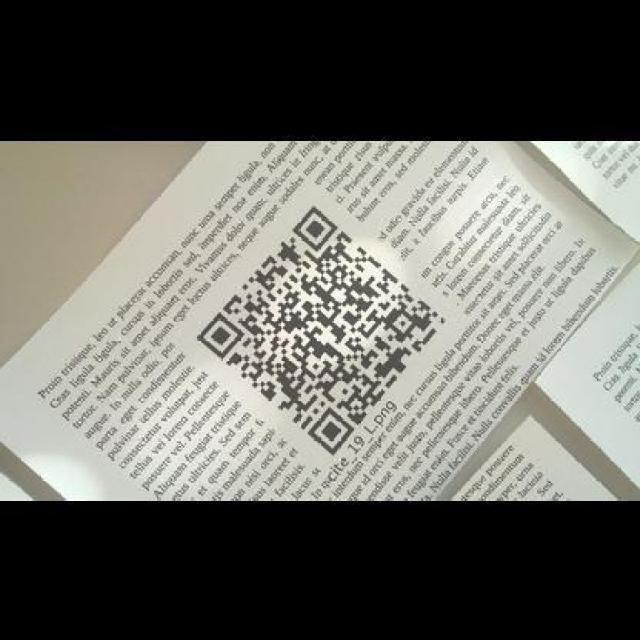QRCode: (191, 198, 455, 459)
